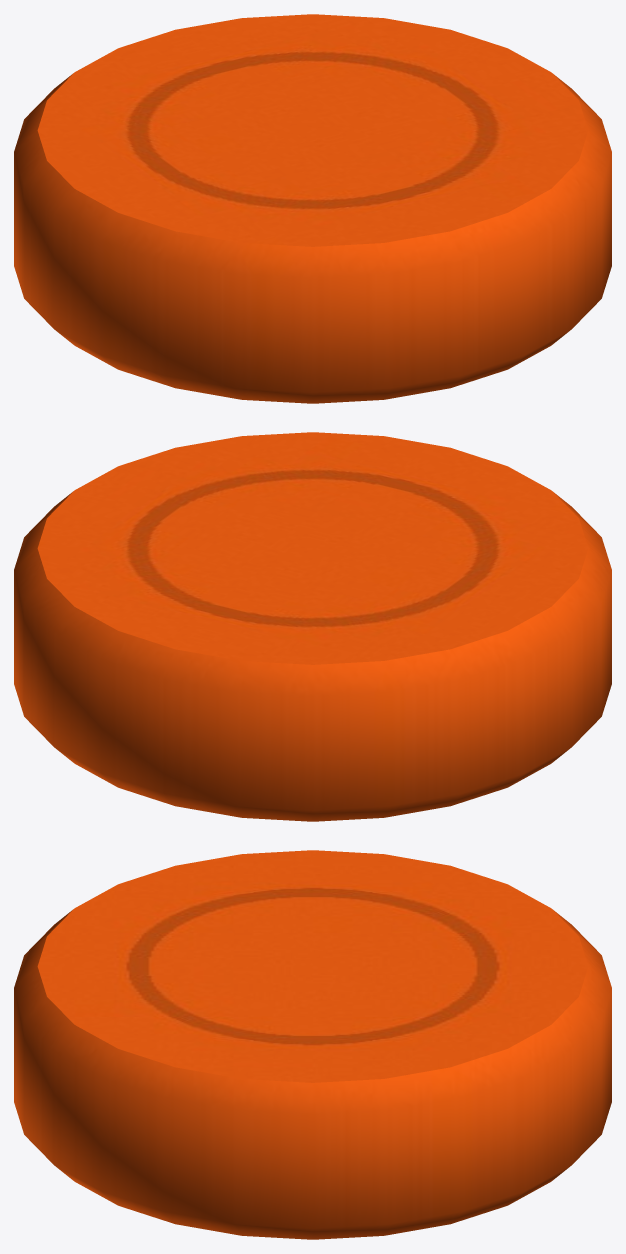
Rendered from palet.glb.
The picture shows the model from 3 angles, top to bottom: view 1: azimuth 30°, elevation 25°; view 2: azimuth 150°, elevation 25°; view 3: azimuth 270°, elevation 25°; orthographic projection.
Parts seen in each view (by area): view 1: Palet; view 2: Palet; view 3: Palet.
Boxes of the visible parts, bbox=[...] form: Palet: bbox=[14, 14, 611, 403]; Palet: bbox=[14, 432, 611, 821]; Palet: bbox=[14, 850, 611, 1239].
Bounding box in the file's own units: 0.076 × 0.022 × 0.076.
Materials: 1 (1 with a texture image).
